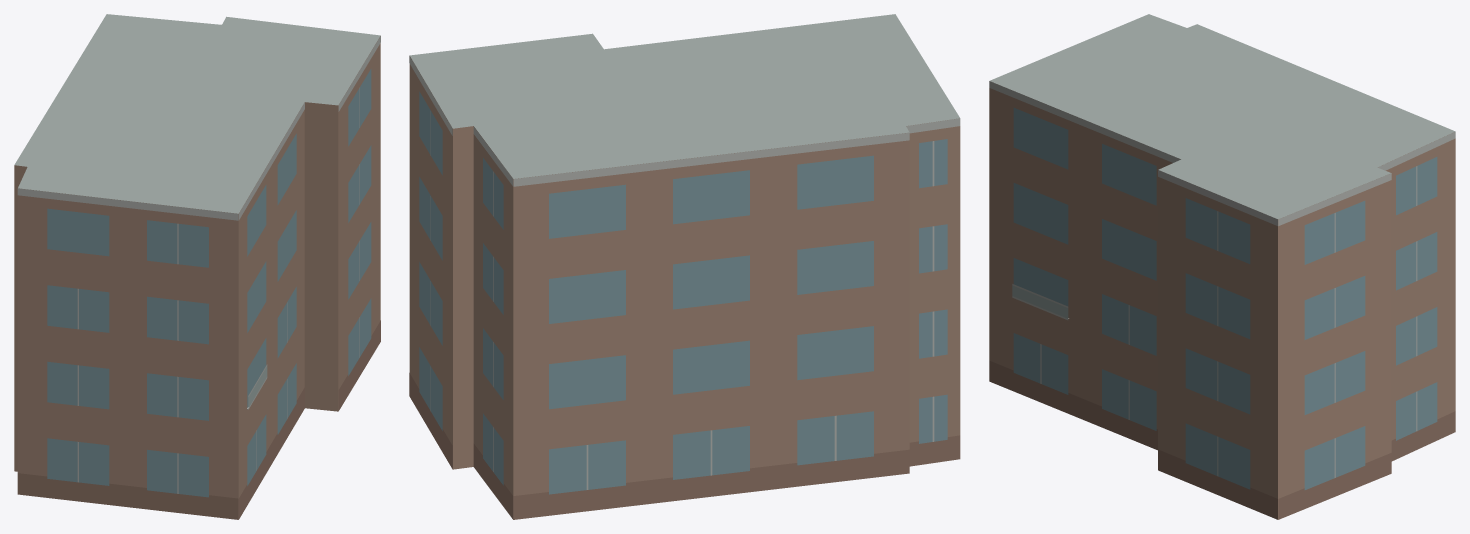
Rendered from survey-upis-32882894.glb.
The picture shows the model from 3 angles, left to right: view 1: azimuth 30°, elevation 25°; view 2: azimuth 150°, elevation 25°; view 3: azimuth 270°, elevation 25°; orthographic projection. The views are drawn at different scales.
Visible parts, largest first — view 1: survey-upis-32882894.tmp; view 2: survey-upis-32882894.tmp; view 3: survey-upis-32882894.tmp.
Boxes of the visible parts, box(x1,y1,x2,y2) form: survey-upis-32882894.tmp: box(14, 14, 380, 519); survey-upis-32882894.tmp: box(409, 14, 960, 519); survey-upis-32882894.tmp: box(989, 14, 1455, 519).
Bounding box in the file's own units: 15.54 × 10.6 × 14.92.
